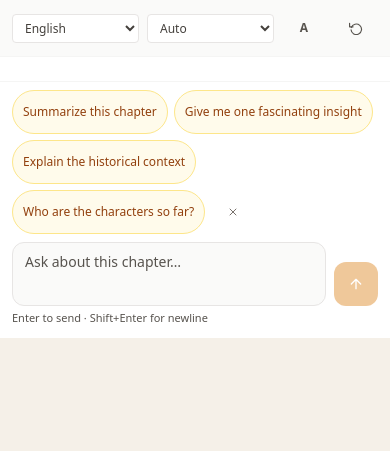
Test case: InsightChat — manual refresh (lines 167-175) › shows error message when refresh getInsight rejects
Click the button titled "Append a fresh insight" at (356,28), box [334,6,378,50]
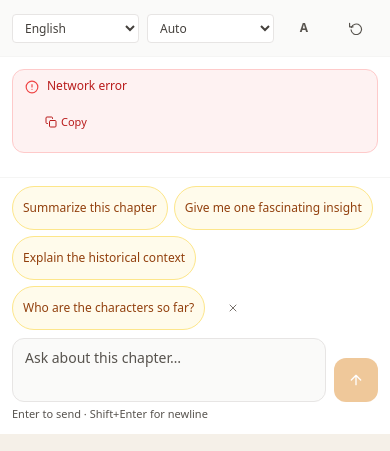
Now the text "Network error" is shown, box [47,78,127,94]
